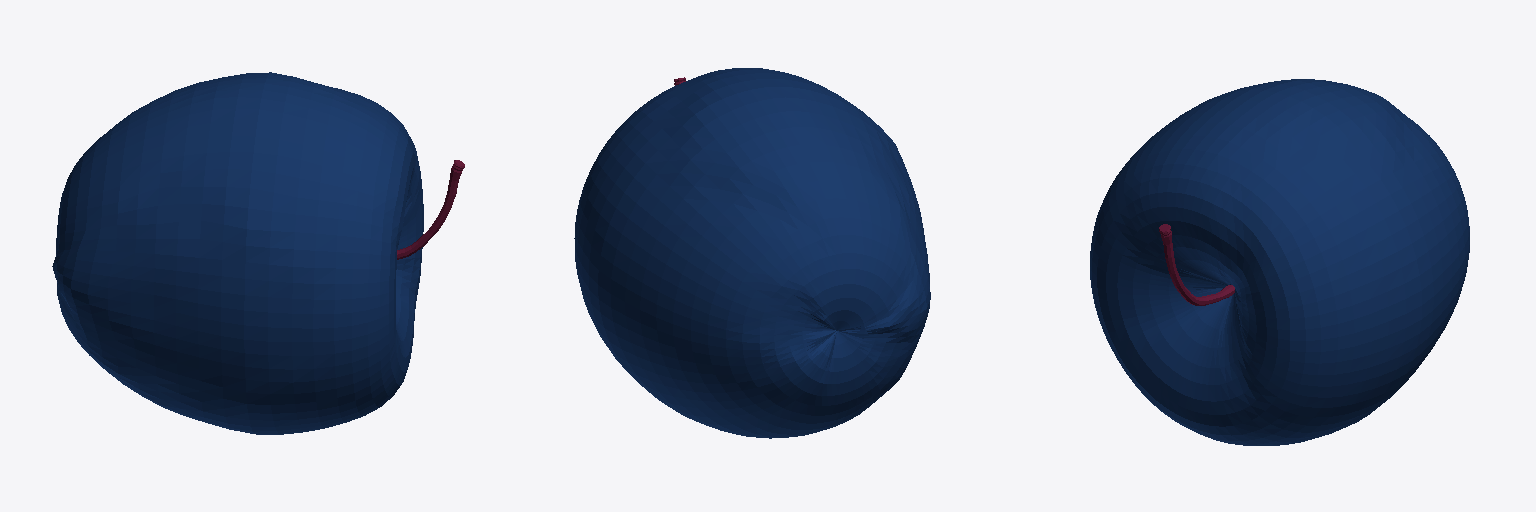
The model's file is manzana2.obj.
3 views of the same model, side by side, from view 1: azimuth 30°, elevation 25°; view 2: azimuth 150°, elevation 25°; view 3: azimuth 270°, elevation 25° (orthographic).
Parts seen in each view (by area): view 1: object.001, apple_skin.001; view 2: object.001; view 3: object.001, apple_skin.001.
Boxes of the visible parts, x1=… form: object.001: x1=52, y1=72, x2=423, y2=434; apple_skin.001: x1=397, y1=160, x2=464, y2=259; object.001: x1=574, y1=68, x2=930, y2=438; object.001: x1=1090, y1=79, x2=1469, y2=445; apple_skin.001: x1=1159, y1=224, x2=1234, y2=305.
Size of the model in its own units: 0.7044 by 0.6486 by 0.6731.